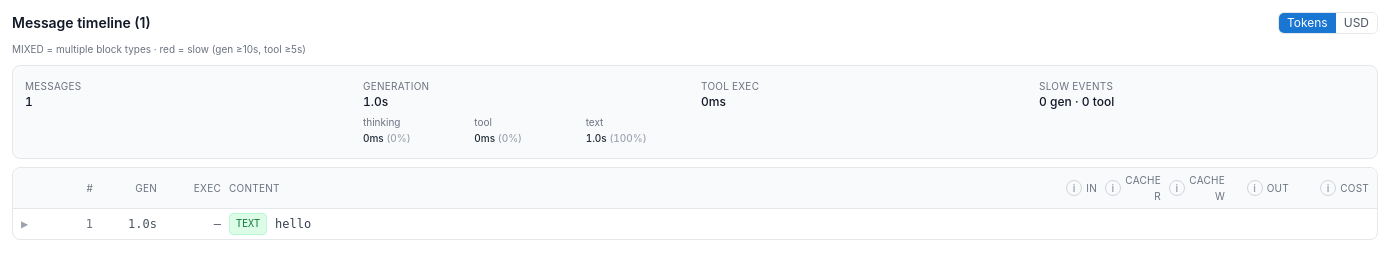
Test: MessageTimelineSection — table layout › Cost header has an ⓘ help bubble explaining per-message cost
This screenshot has width=1390, height=257.
Click the button named "What is Per-message cost" at {"x": 1328, "y": 188}, box x1=1320 y1=180 x2=1336 y2=196
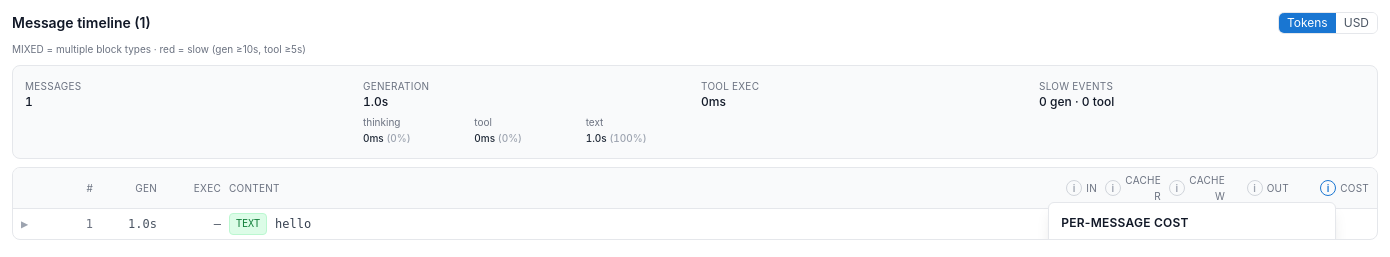
Expected: the tooltip shows "Per-message cost", x1=1061 y1=215 x2=1189 y2=230
